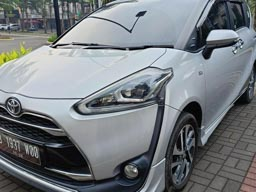plat: (1, 136, 39, 164)
